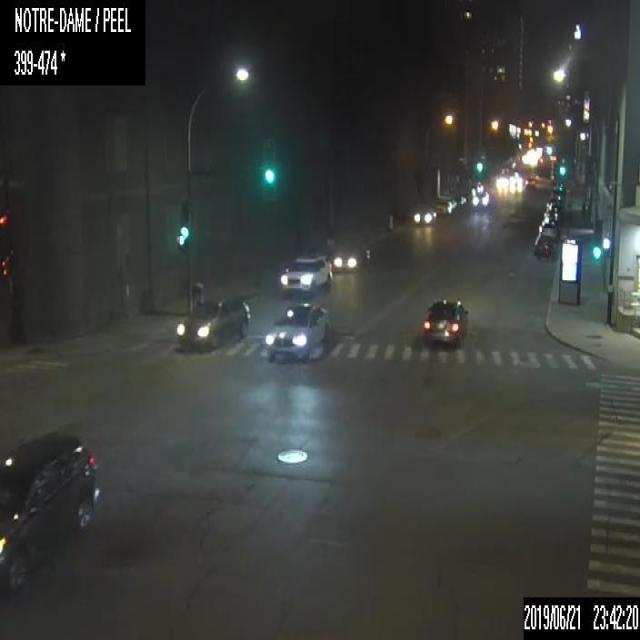vehicle: (0, 431, 100, 592), (175, 293, 252, 351), (262, 301, 332, 359), (278, 252, 332, 298), (423, 298, 469, 346), (334, 241, 372, 276), (533, 234, 555, 258), (414, 204, 436, 224), (538, 220, 558, 238), (472, 190, 489, 208), (542, 207, 560, 222), (435, 199, 452, 214), (551, 185, 565, 203), (545, 194, 561, 209), (509, 171, 522, 189), (453, 192, 467, 208), (468, 179, 484, 193), (496, 173, 508, 189), (524, 177, 534, 188)
